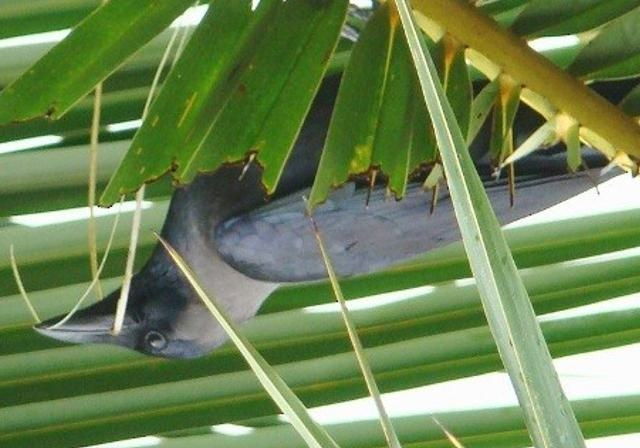crow: (40, 97, 605, 380)
